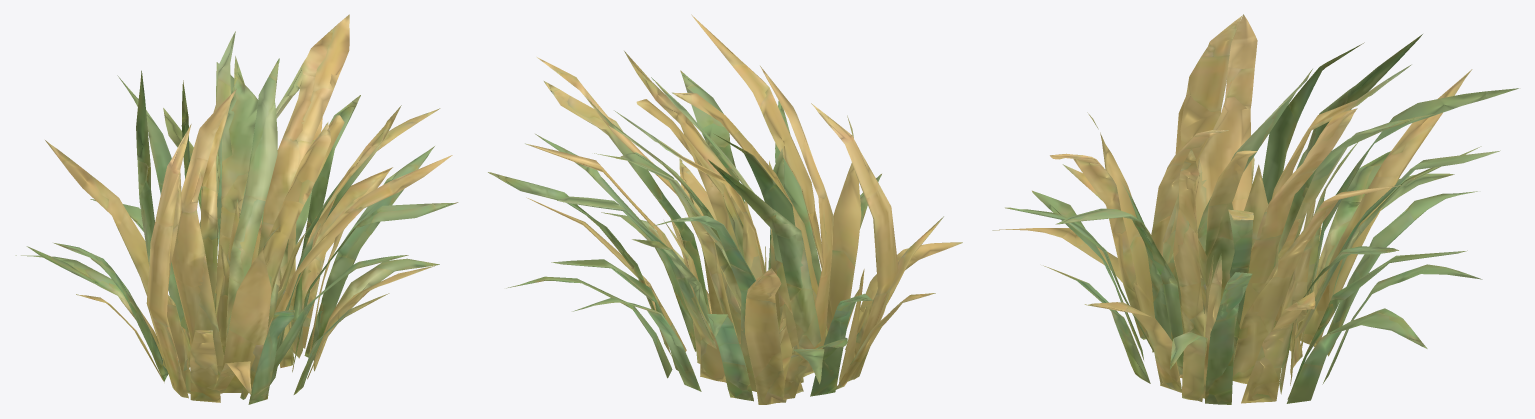
File: dry-grass.glb
The picture shows the model from 3 angles, left to right: view 1: azimuth 30°, elevation 25°; view 2: azimuth 150°, elevation 25°; view 3: azimuth 270°, elevation 25°; orthographic projection. The views are drawn at different scales.
Size of the model in its own units: 1.88 by 1.41 by 1.88.
1 material, 1 textured.
